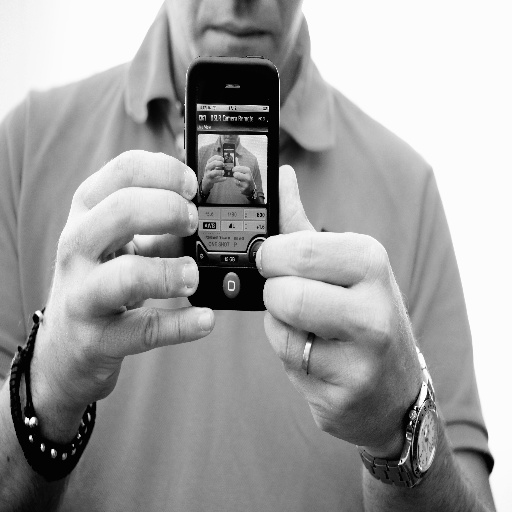hand: (255, 163, 421, 448), (35, 144, 216, 403)
